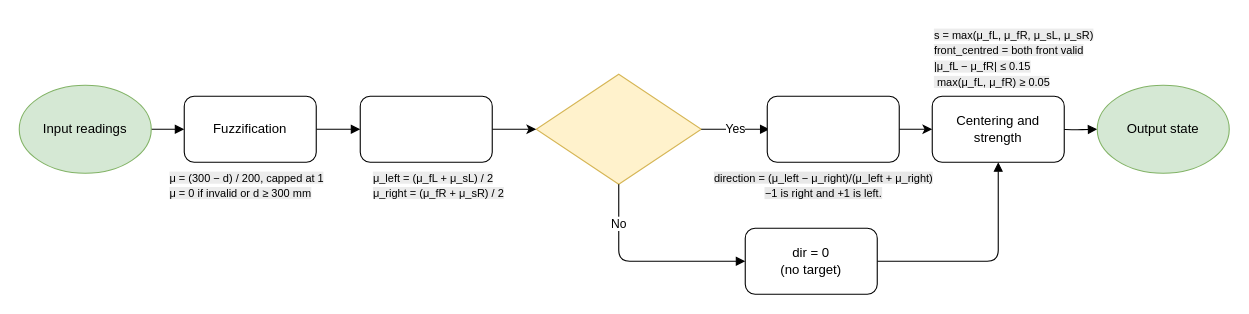
This 1249x314 diagram has some shape labels left out. Here are the shapes that lost their labels. From the top down, the centre of each, then its label:
point 425,128: Aggregation
point 618,128: μ_left + μ_right > 0?
point 832,128: Defuzzification
